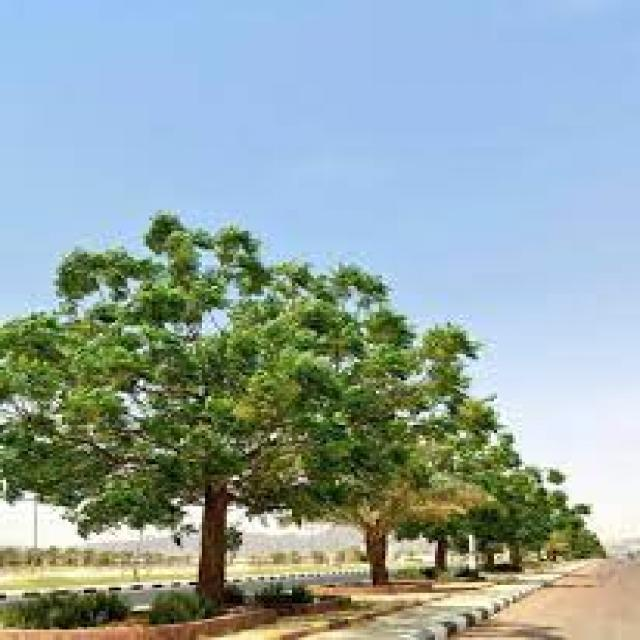tree: (3, 220, 354, 606), (274, 314, 476, 582), (385, 393, 497, 570)
